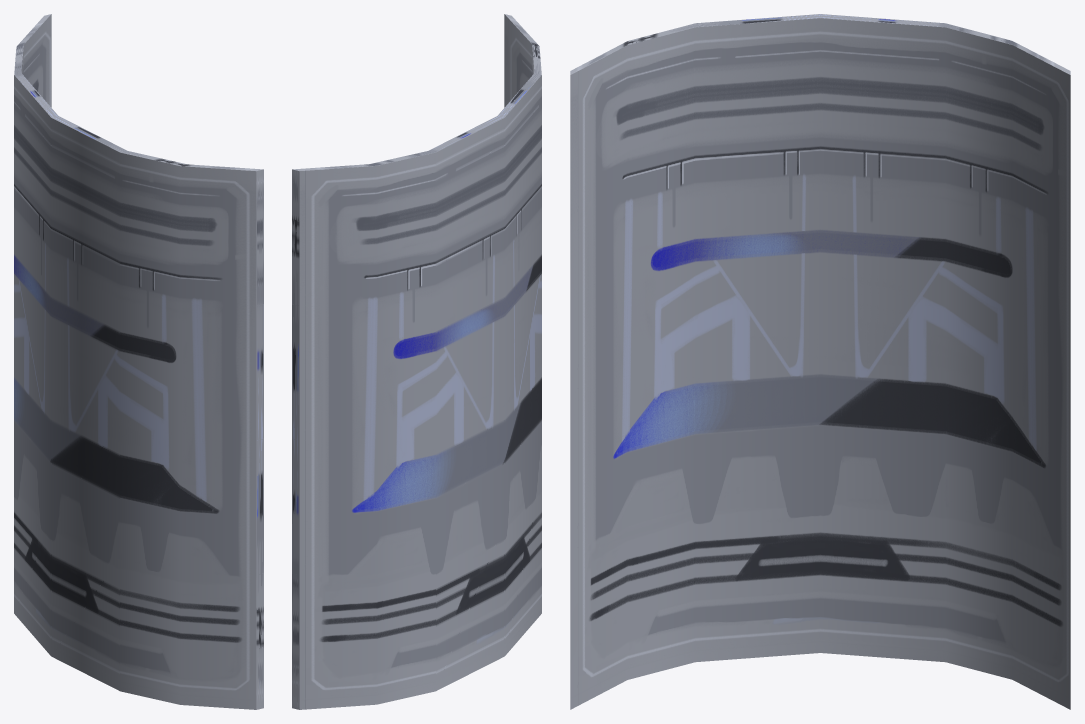
File: basicWall_2.fbx
The picture shows the model from 3 angles, left to right: view 1: azimuth 30°, elevation 25°; view 2: azimuth 150°, elevation 25°; view 3: azimuth 270°, elevation 25°; orthographic projection. The views are drawn at different scales.
Parts seen in each view (by area): view 1: basicWall_2; view 2: basicWall_2; view 3: basicWall_2.
Part boxes in pixels (<box>): basicWall_2: <box>14,14,263,709</box>; basicWall_2: <box>292,14,541,709</box>; basicWall_2: <box>570,14,1070,709</box>.
Bounding box in the file's own units: 72.4 × 350 × 250.
1 material, 1 textured.
